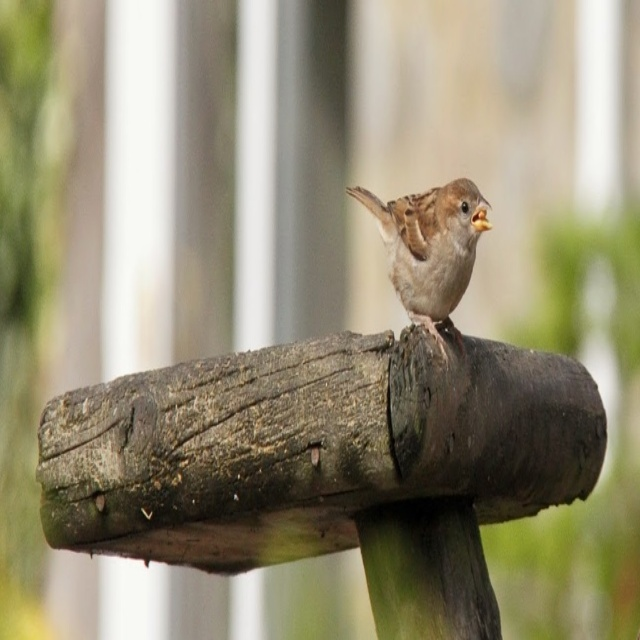Sparrow: (350, 172, 495, 347)
